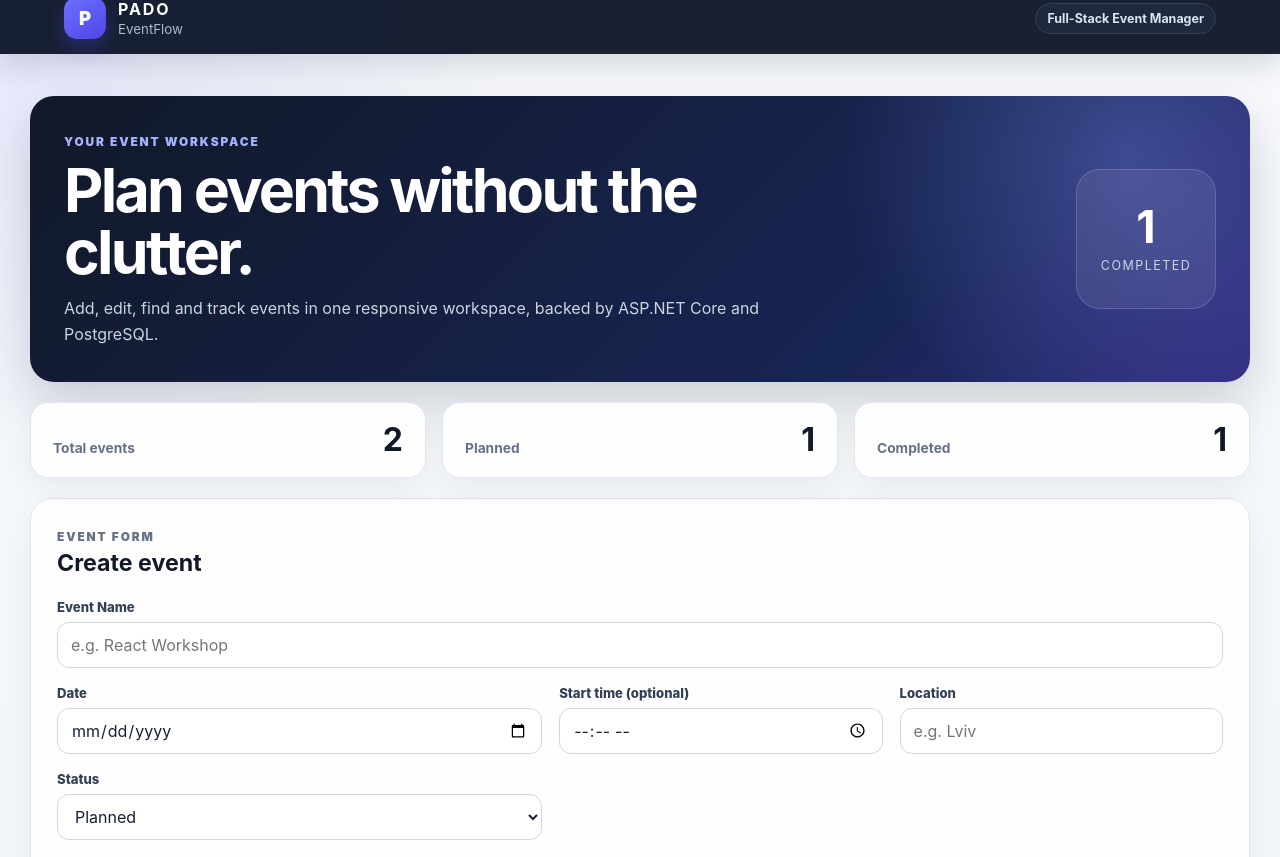
Scenario: does not clear unsaved form after failed POST
The width and height of the screenshot is (1280, 857).
In the field labelled "Event Name": (640,645) [57, 622, 1223, 668], type "Demo Conference"
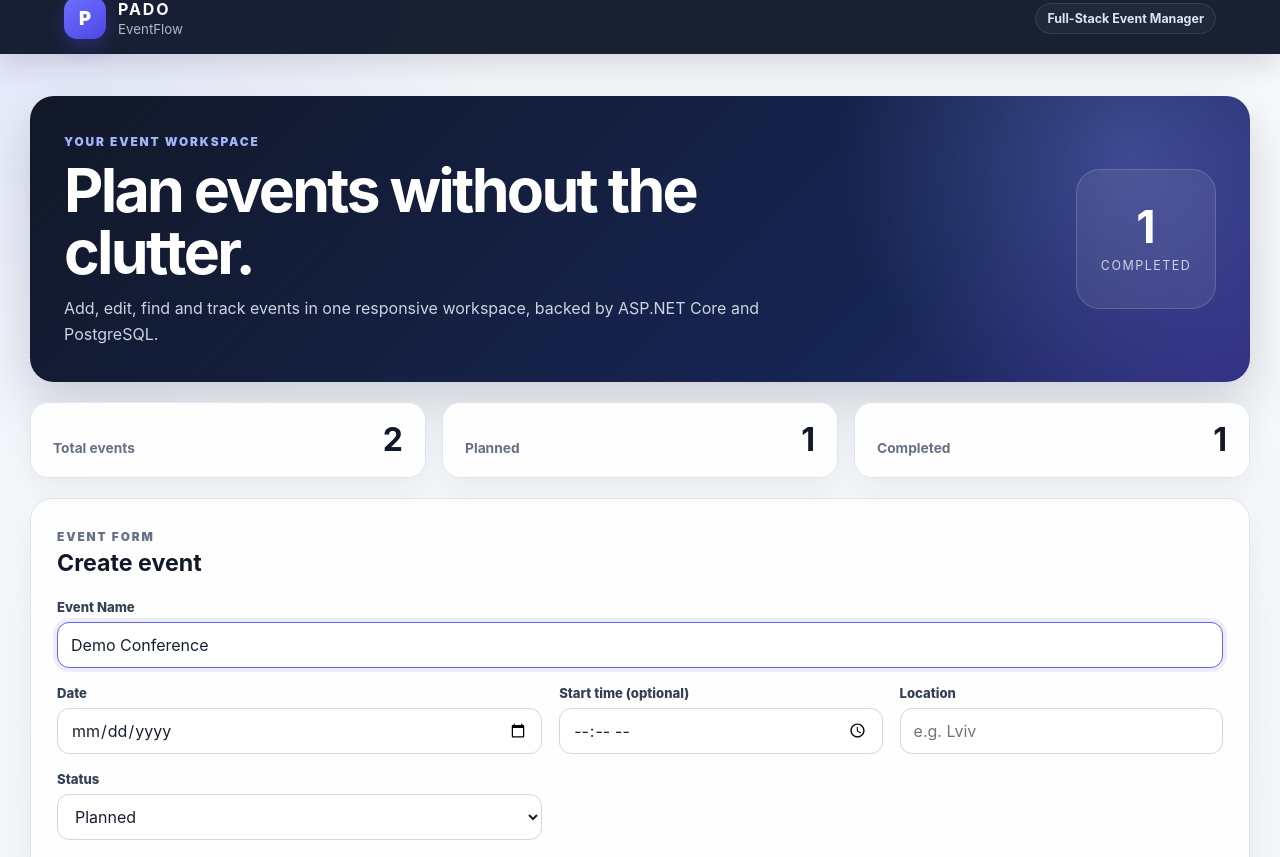
In the date field labelled "Date": (300,731) [57, 708, 542, 754], type "2026-12-05"
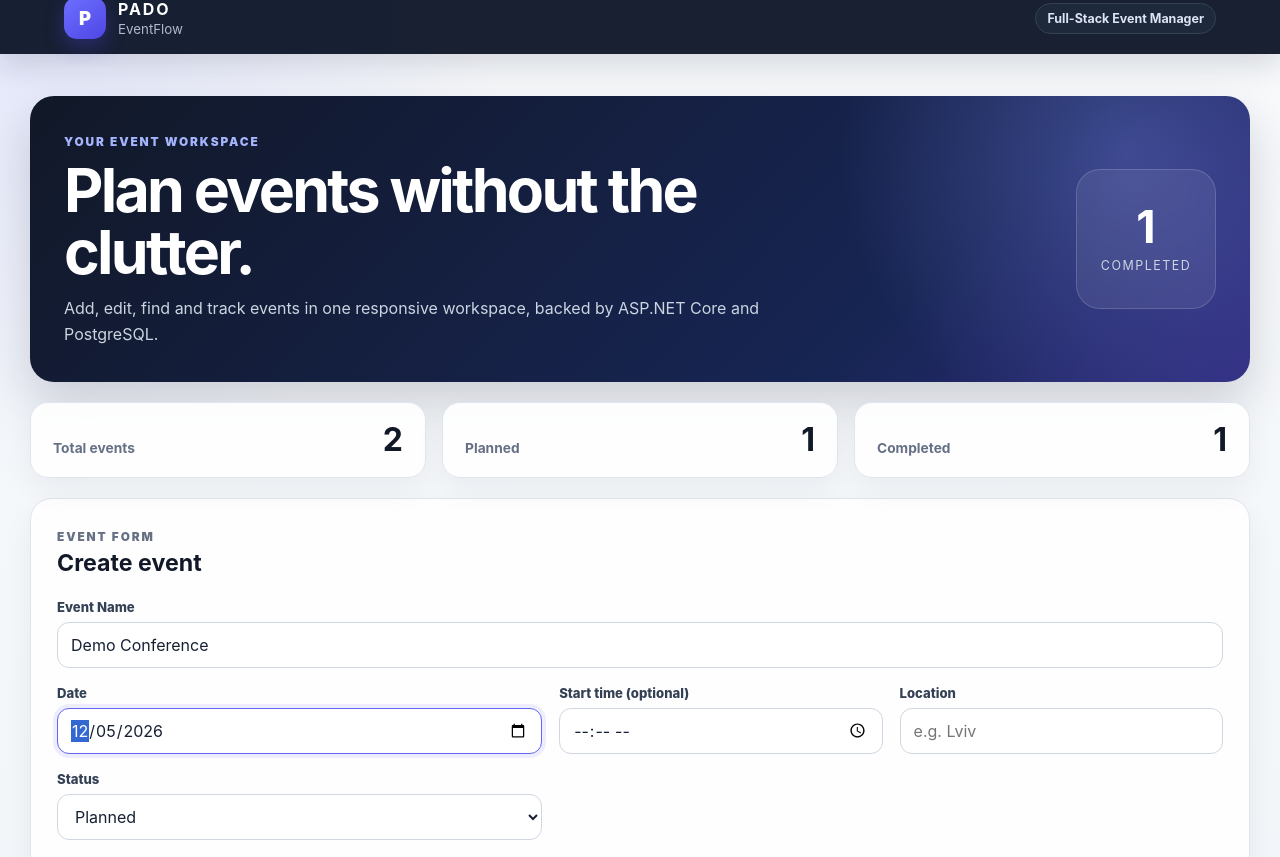
In the field labelled "Location": (1061,731) [900, 708, 1223, 754], type "Lutsk"
(page scrolled)
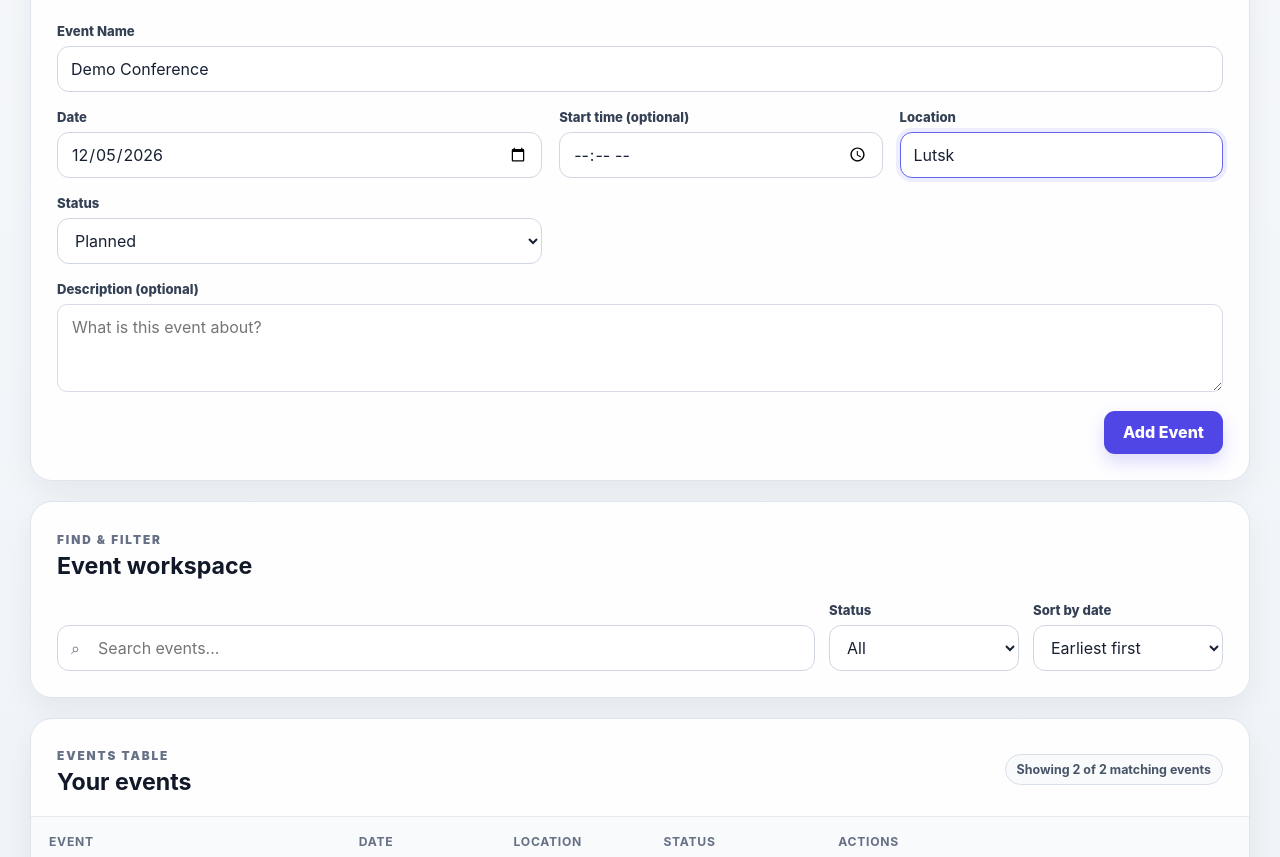
Click the button "Add Event": (1164,432) [1104, 411, 1223, 454]
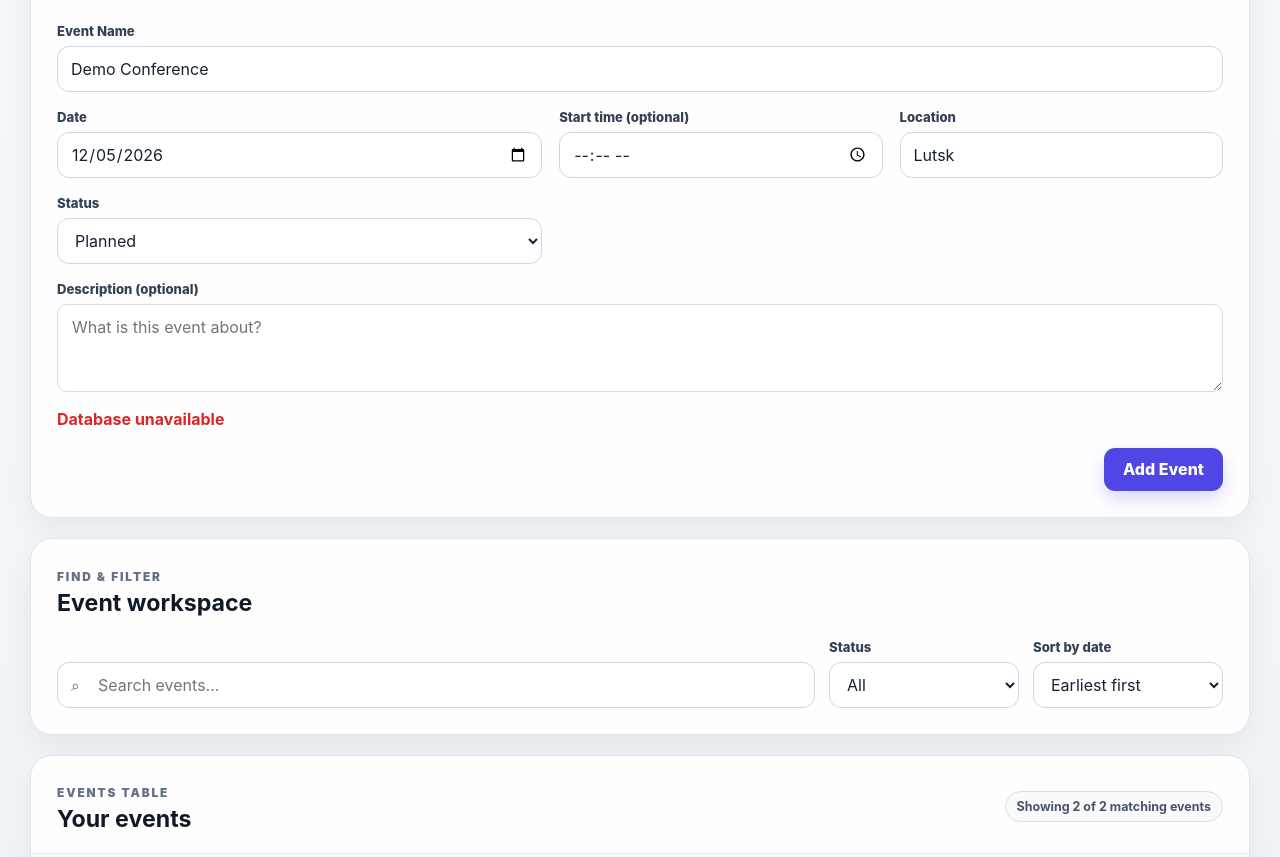
Expected: the message reads "Database unavailable", [57, 409, 224, 429]
